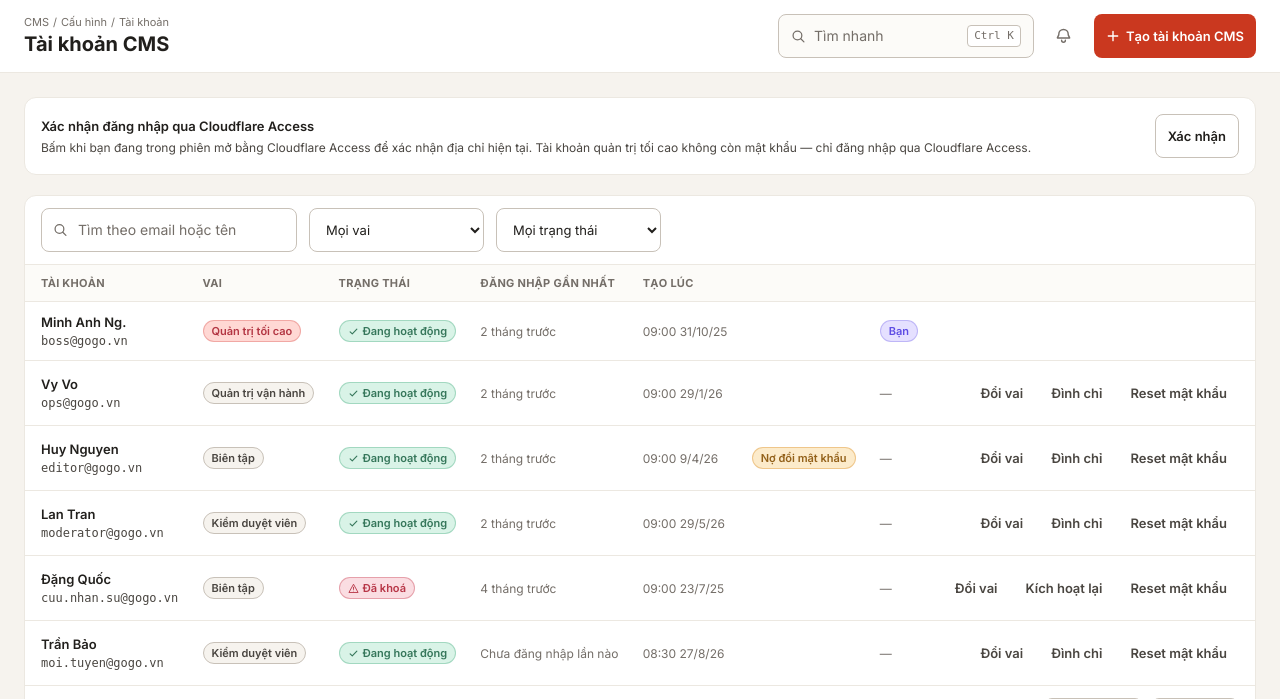
Test: AdminListScreen (CMS-021) › shows the temporary password exactly once, with the one-time warning
The width and height of the screenshot is (1280, 699).
Click the button "Reset mật khẩu" in the row of "Vy Vo". click: {"x": 1179, "y": 393}
box: [1118,371,1239,415]
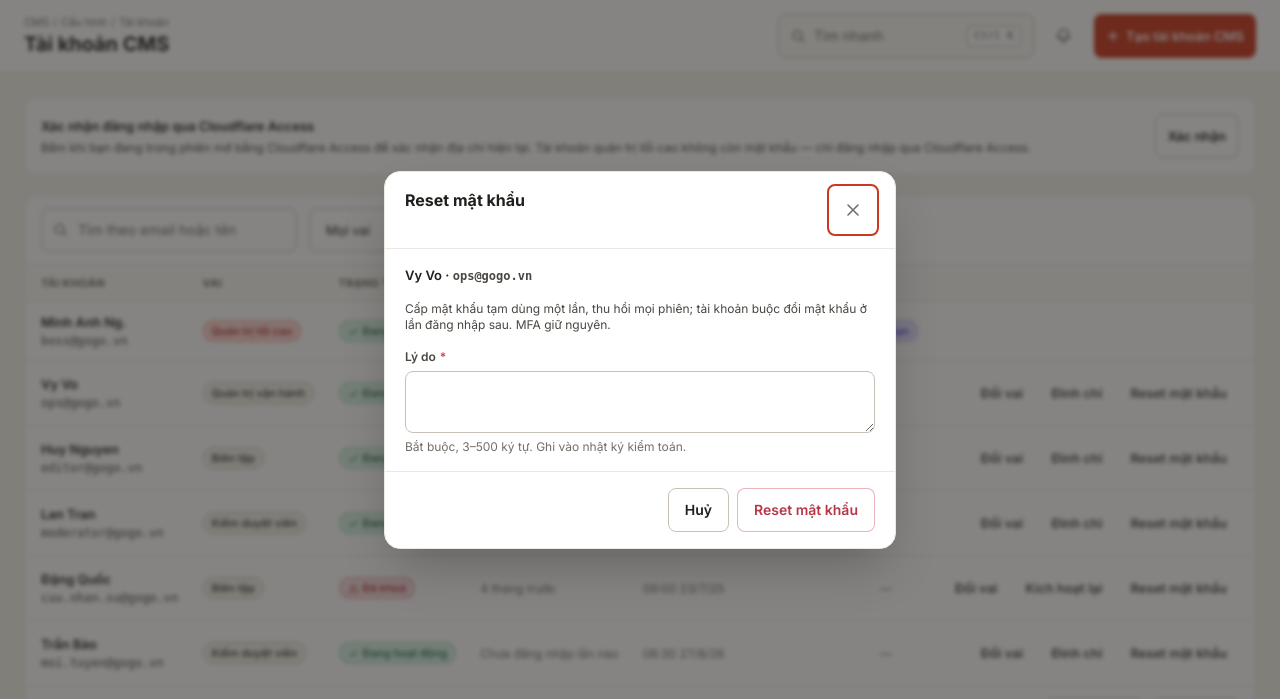
Type "nghi ngờ lộ mật khẩu" into the text box labelled "Lý do*". click: {"x": 640, "y": 402}
box: [405,371,875,433]
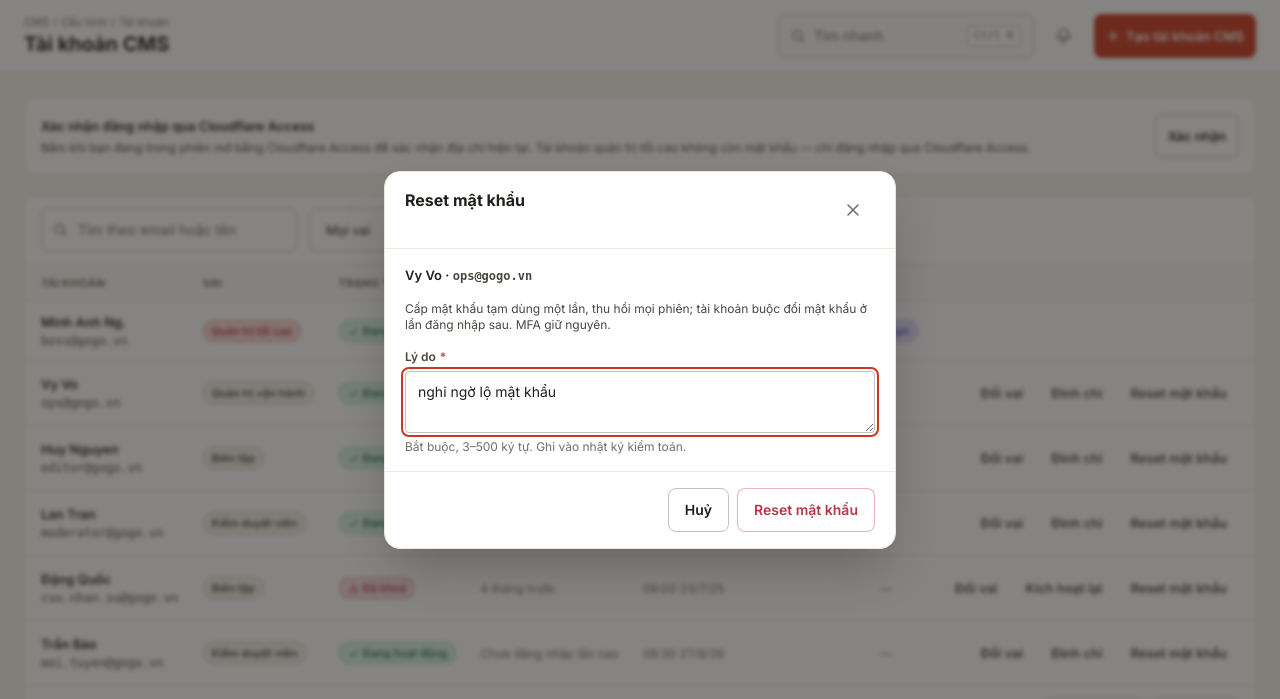
Click the button "Reset mật khẩu". click: {"x": 806, "y": 510}
box: [737,488,875,532]
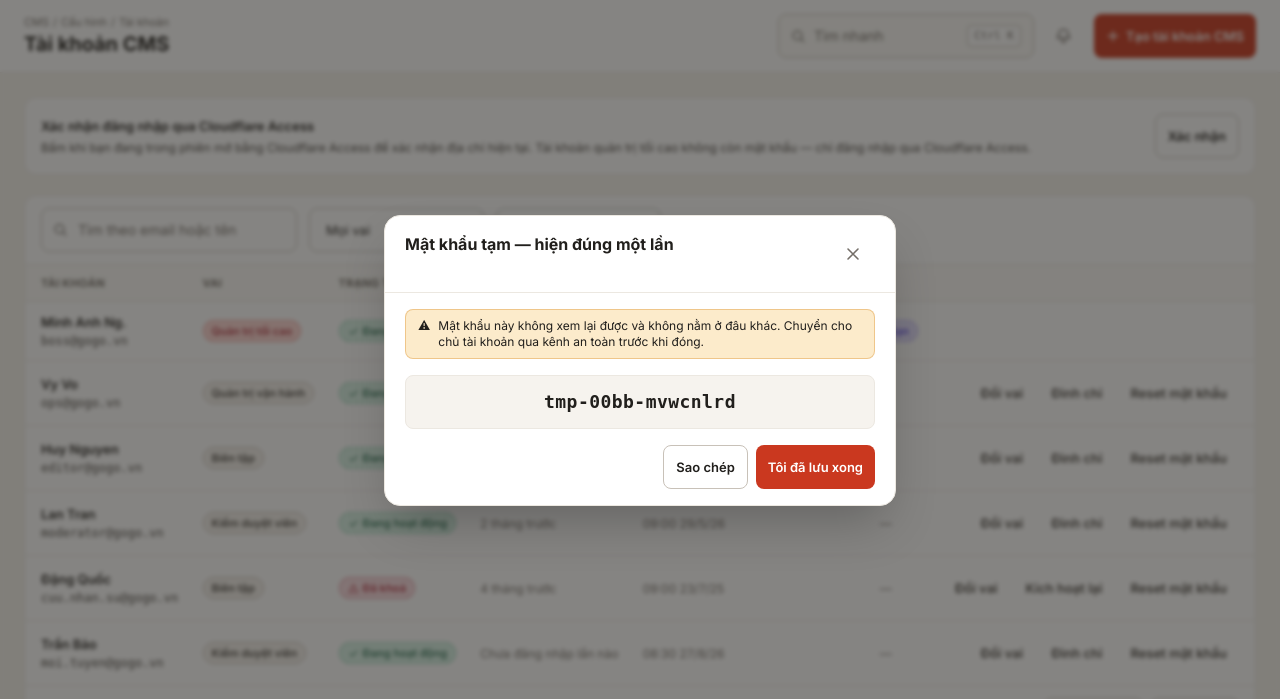
Result: the heading "Mật khẩu tạm — hiện đúng một lần" is shown at [405,232,674,256]
Result: the text "tmp-" is shown at [544,390,736,412]
Result: the text "không xem lại được" is shown at [438,318,852,348]
